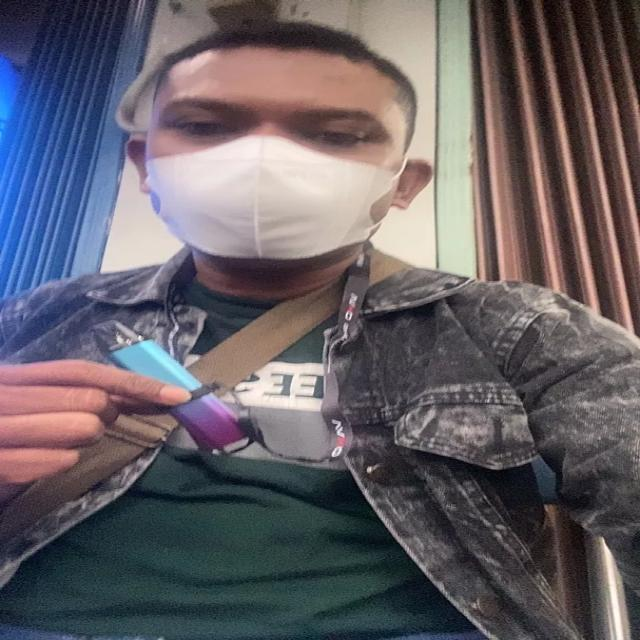Hazard: (84, 320, 258, 462)
